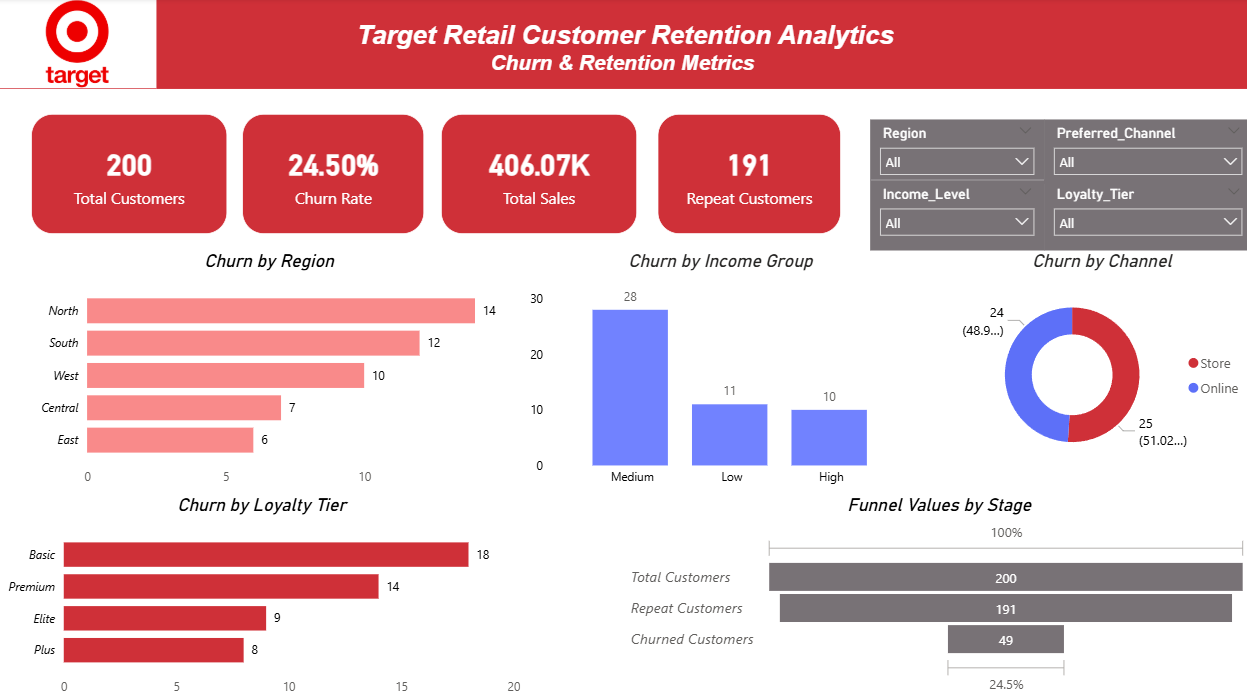

The dashboard page shown, as its layout file describes it:
{"tool":"powerbi","page":{"name":"Executive Dashboard","canvas":[1280,720],"ordinal":0},"visuals":[{"type":"card","fields":{"Values":["Churn_Labelled_Customers.Total Customers"]},"box":[33.8,118.2,199.9,122.4],"z":0},{"type":"card","fields":{"Values":["Churn_Labelled_Customers.Churn Rate"]},"box":[249.1,118.2,185.8,122.4],"z":1000},{"type":"card","fields":{"Values":["Churn_Labelled_Customers.Total Sales"]},"box":[451.8,118.2,199.9,122.4],"z":2000},{"type":"card","fields":{"Values":["Churn_Labelled_Customers.Repeat Customers"]},"box":[672.7,118.2,187.2,122.4],"z":3000},{"type":"clusteredBarChart","title":"Churn by Region","fields":{"Category":["Customer_Demographics.Region"],"Y":["Churn_Labelled_Customers.Churned Customers"]},"box":[33.8,257.6,485.6,249.1],"z":4000},{"type":"clusteredColumnChart","title":"Churn by Income Group","fields":{"Category":["Customer_Demographics.Income_Level"],"Y":["Churn_Labelled_Customers.Churned Customers"]},"box":[537.6,257.6,398.3,249.1],"z":5000},{"type":"clusteredBarChart","title":"Churn by Loyalty Tier","fields":{"Category":["Loyalty_Program.Loyalty_Tier"],"Y":["Churn_Labelled_Customers.Churned Customers"]},"box":[0,506.7,537.6,213.9],"z":6000},{"type":"funnel","fields":{"Category":["FunnelStage.Stage"],"Y":["Churn_Labelled_Customers.Funnel Values"]},"box":[640.4,506.7,639,208.3],"z":7000},{"type":"donutChart","title":"Churn by Channel","fields":{"Category":["Customer_Demographics.Preferred_Channel"],"Y":["Churn_Labelled_Customers.Churned Customers"]},"box":[972.5,257.6,306.8,230.8],"z":8000},{"type":"slicer","fields":{"Values":["Customer_Demographics.Region"]},"box":[889.5,123.9,177.3,61.9],"z":9000},{"type":"slicer","fields":{"Values":["Customer_Demographics.Preferred_Channel"]},"box":[1066.8,123.9,212.5,66.1],"z":10000},{"type":"slicer","fields":{"Values":["Loyalty_Program.Loyalty_Tier"]},"box":[1066.8,185.8,212.5,71.8],"z":11000},{"type":"slicer","fields":{"Values":["Customer_Demographics.Income_Level"]},"box":[889.5,185.8,177.3,71.8],"z":12000},{"type":"textbox","box":[0,0,1279.3,92.9],"z":13000},{"type":"image","box":[0,0,161.9,92.9],"z":14000}]}

Visuals, with their boxes in screenshot pixels (x1, y1, x2, y2), scaled from the page's 1280x720 canvas onto the 1247x698 screenshot:
card - Churn_Labelled_Customers.Total Customers: <region>33, 115, 228, 233</region>
card - Churn_Labelled_Customers.Churn Rate: <region>243, 115, 424, 233</region>
card - Churn_Labelled_Customers.Total Sales: <region>440, 115, 635, 233</region>
card - Churn_Labelled_Customers.Repeat Customers: <region>655, 115, 838, 233</region>
"Churn by Region" clusteredBarChart: <region>33, 250, 506, 491</region>
"Churn by Income Group" clusteredColumnChart: <region>524, 250, 912, 491</region>
"Churn by Loyalty Tier" clusteredBarChart: <region>0, 491, 524, 697</region>
funnel - FunnelStage.Stage x Churn_Labelled_Customers.Funnel Values: <region>624, 491, 1246, 693</region>
"Churn by Channel" donutChart: <region>947, 250, 1246, 473</region>
slicer - Customer_Demographics.Region: <region>867, 120, 1039, 180</region>
slicer - Customer_Demographics.Preferred_Channel: <region>1039, 120, 1246, 184</region>
slicer - Loyalty_Program.Loyalty_Tier: <region>1039, 180, 1246, 250</region>
slicer - Customer_Demographics.Income_Level: <region>867, 180, 1039, 250</region>
textbox: <region>0, 0, 1246, 90</region>
image: <region>0, 0, 158, 90</region>
